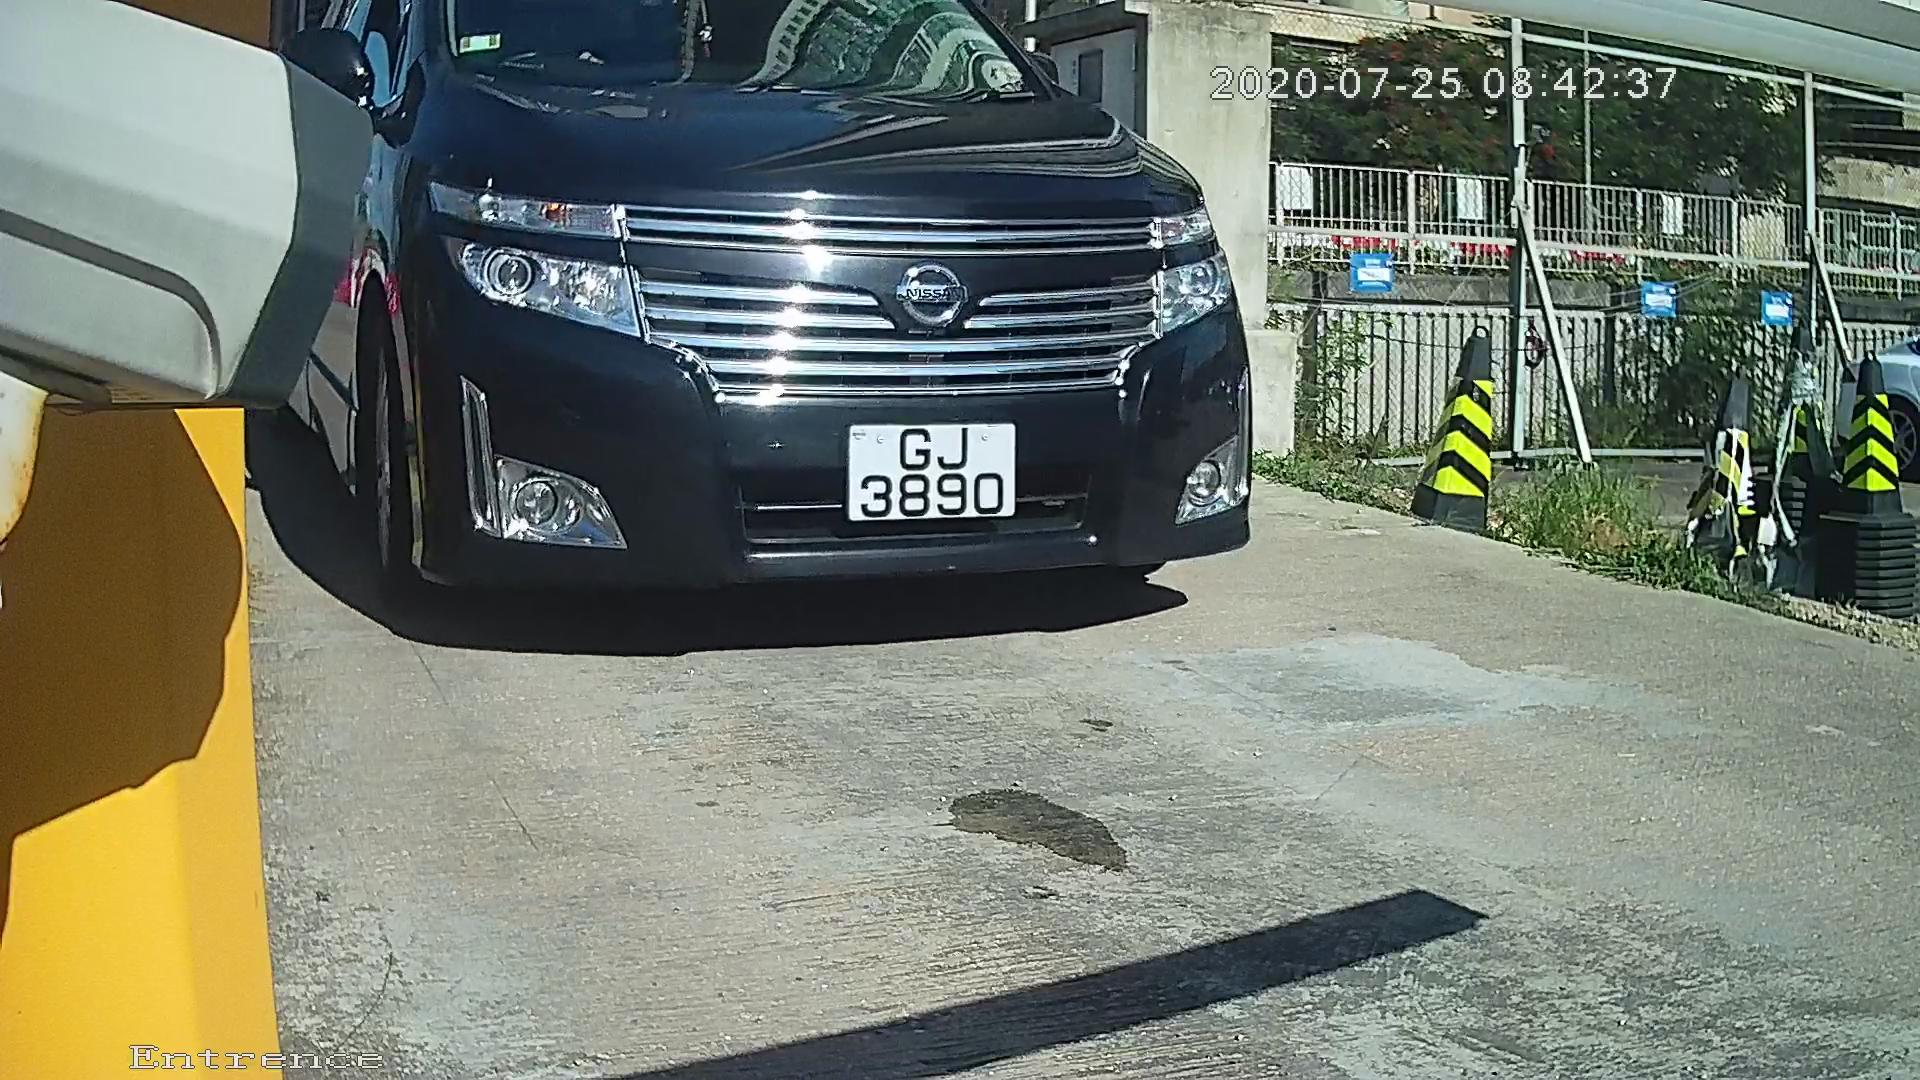Car: (43, 5, 1381, 690)
License Plate: (832, 410, 1038, 531)
